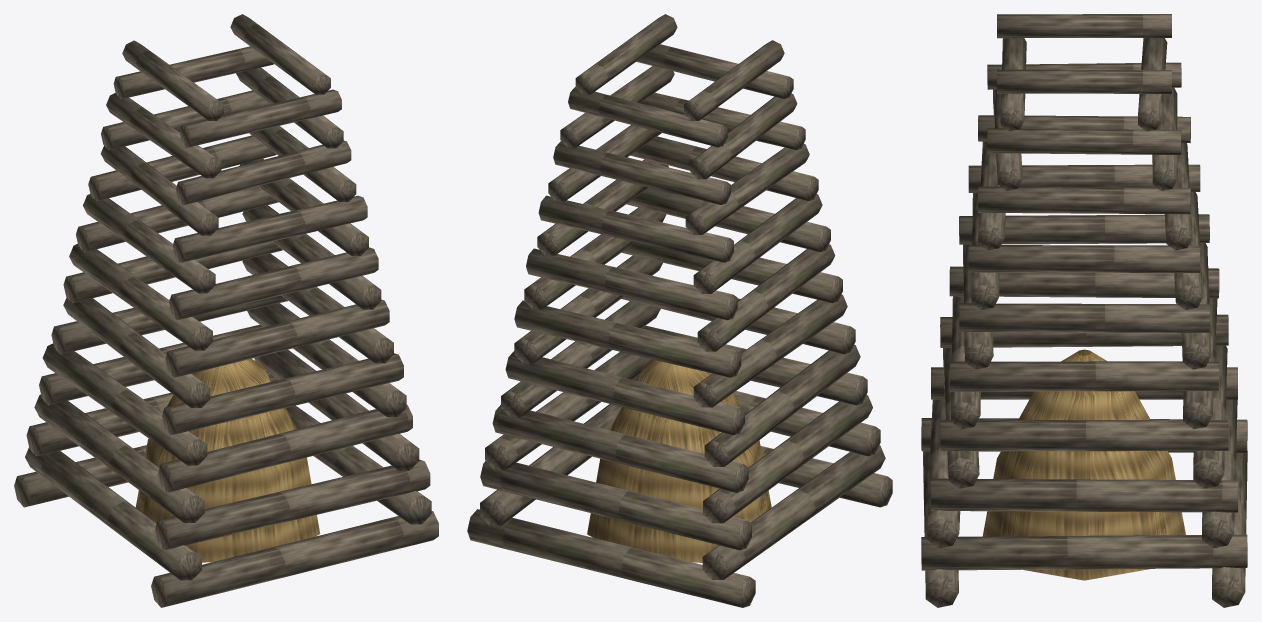
The model's file is Bonfire_Stack_1.gltf.
The picture shows the model from 3 angles, left to right: view 1: azimuth 30°, elevation 25°; view 2: azimuth 150°, elevation 25°; view 3: azimuth 270°, elevation 25°; orthographic projection. The views are drawn at different scales.
Visible parts, largest first — view 1: Bonfire_Stack_1; view 2: Bonfire_Stack_1; view 3: Bonfire_Stack_1.
Boxes of the visible parts, box(x1,y1,x2,y2) form: Bonfire_Stack_1: box(14, 14, 438, 607); Bonfire_Stack_1: box(467, 14, 892, 607); Bonfire_Stack_1: box(921, 14, 1247, 607).
Bounding box in the file's own units: 2.3 × 3.74 × 2.24.
Materials: 2 (2 with a texture image).
